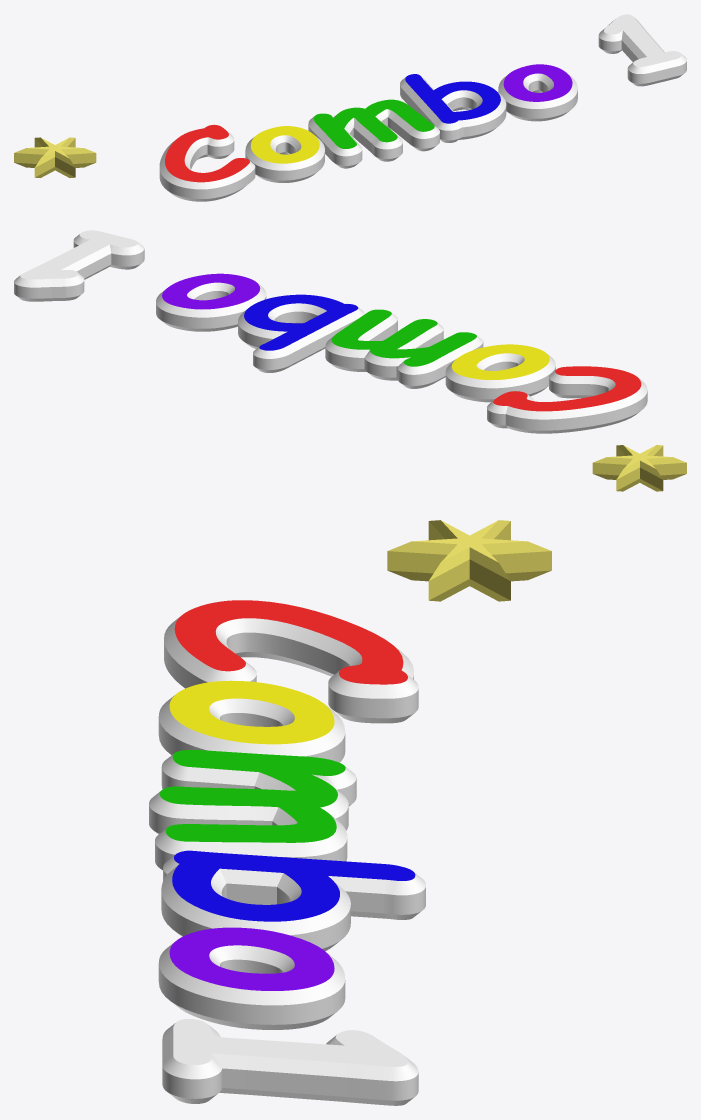
The model's file is combo1.FBX.
3 renders of one model, top to bottom at view 1: azimuth 30°, elevation 25°; view 2: azimuth 150°, elevation 25°; view 3: azimuth 270°, elevation 25°, orthographic. The views are drawn at different scales.
Visible parts, largest first — view 1: Text001, Text002, Star001; view 2: Text001, Text002, Star001; view 3: Text001, Text002, Star001.
Boxes of the visible parts, x1=… form: Text001: x1=159, y1=64, x2=577, y2=201; Text002: x1=598, y1=14, x2=686, y2=86; Star001: x1=14, y1=137, x2=96, y2=177; Text001: x1=156, y1=273, x2=647, y2=433; Text002: x1=14, y1=230, x2=144, y2=301; Star001: x1=592, y1=445, x2=686, y2=491; Text001: x1=149, y1=600, x2=425, y2=1029; Text002: x1=162, y1=1019, x2=418, y2=1105; Star001: x1=387, y1=520, x2=551, y2=601.
Bounding box in the file's own units: 0.2554 × 0.0751 × 0.012.
